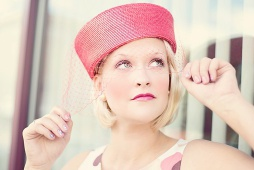female: (89, 31, 179, 129)
